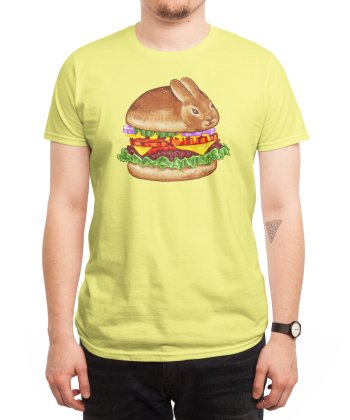design: (113, 74, 233, 184)
